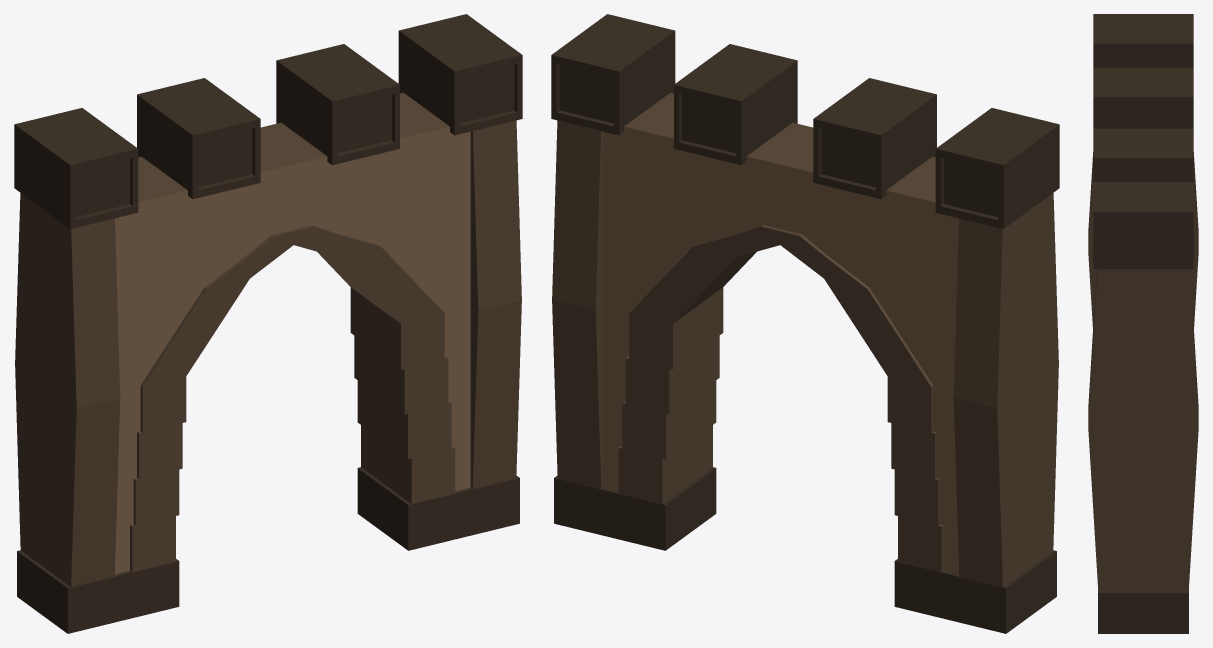
The model's file is Archway_1_Brown.fbx.
The picture shows the model from 3 angles, left to right: view 1: azimuth 30°, elevation 25°; view 2: azimuth 150°, elevation 25°; view 3: azimuth 270°, elevation 25°; orthographic projection. The views are drawn at different scales.
Parts seen in each view (by area): view 1: Archway_1_Brown_Part_2, Archway_1_Brown_Part_3, Archway_1_Brown_Part_1; view 2: Archway_1_Brown_Part_2, Archway_1_Brown_Part_3, Archway_1_Brown_Part_1; view 3: Archway_1_Brown_Part_2, Archway_1_Brown_Part_3.
Part boxes in pixels (box(x1,y1,x2,y2)): Archway_1_Brown_Part_2: box(15, 93, 521, 587); Archway_1_Brown_Part_3: box(14, 14, 522, 633); Archway_1_Brown_Part_1: box(114, 126, 470, 574); Archway_1_Brown_Part_2: box(552, 93, 1058, 587); Archway_1_Brown_Part_3: box(551, 14, 1059, 633); Archway_1_Brown_Part_1: box(603, 126, 959, 574); Archway_1_Brown_Part_2: box(1088, 152, 1198, 591); Archway_1_Brown_Part_3: box(1093, 14, 1193, 633).
Size of the model in its own units: 518 by 515 by 122.
